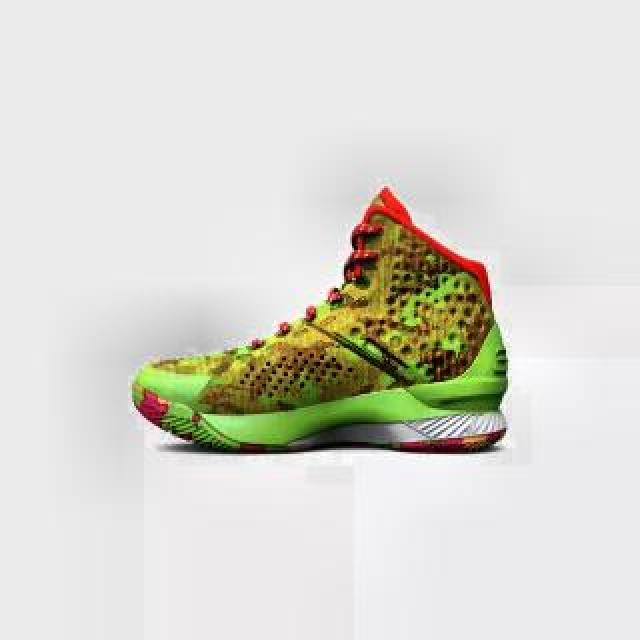shoe: (135, 185, 509, 449)
